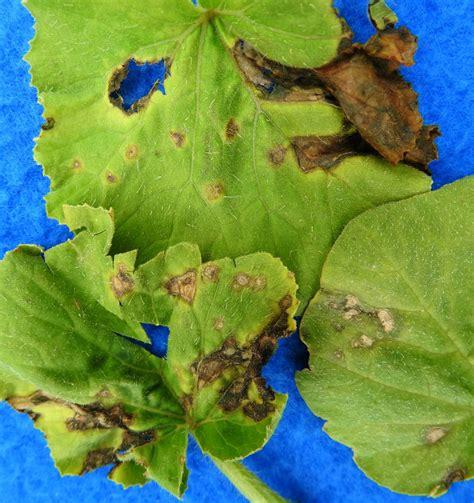black-spot: (100, 130, 238, 206)
